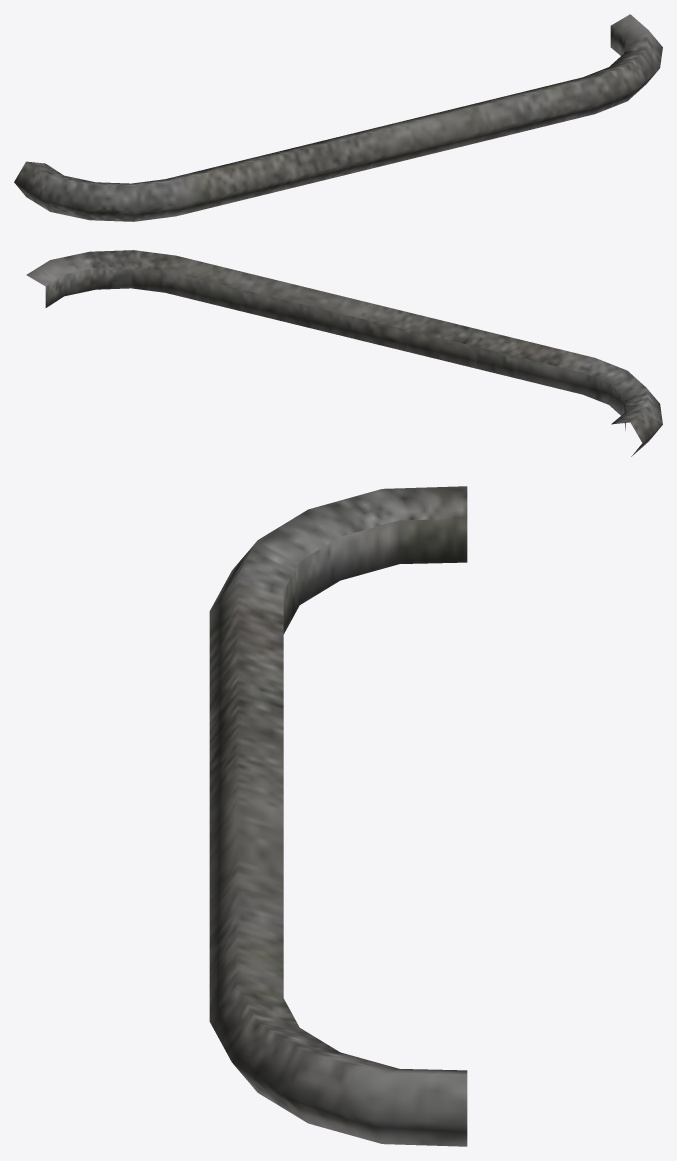
The model's file is furniture_bedhandle_bunker.glb.
3 renders of one model, top to bottom at view 1: azimuth 30°, elevation 25°; view 2: azimuth 150°, elevation 25°; view 3: azimuth 270°, elevation 25°, orthographic. The views are drawn at different scales.
Bounding box in the file's own units: 36.4 × 1.96 × 6.47.
Materials: 1 (1 with a texture image).
